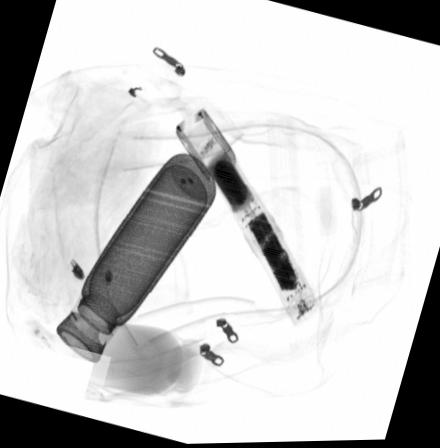Baton: (175, 104, 320, 328)
